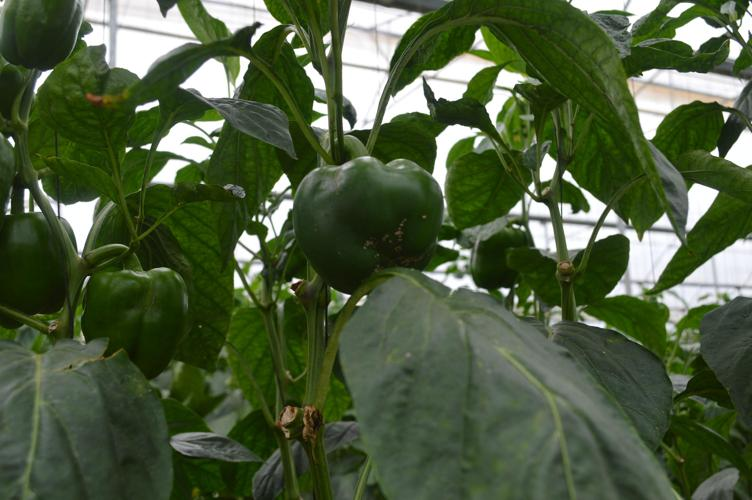BellPepper: (276, 146, 451, 303), (77, 253, 197, 389), (1, 208, 79, 336), (469, 208, 546, 298), (1, 1, 80, 75)
